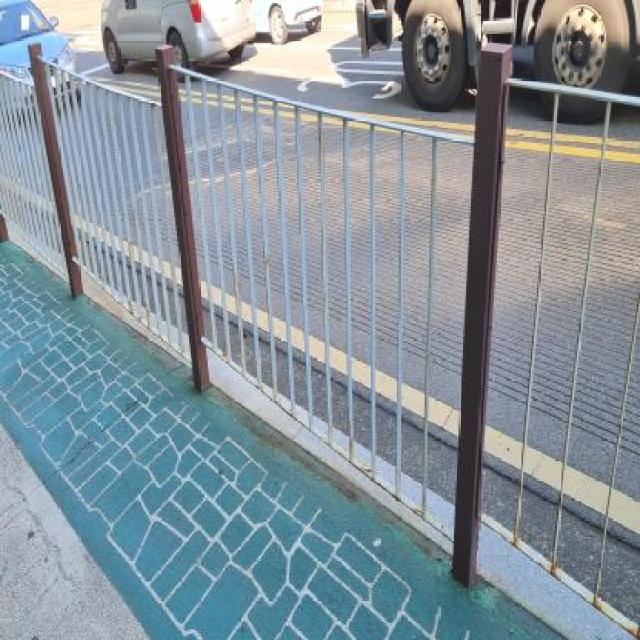fence: (202, 39, 638, 593), (6, 36, 239, 373)
